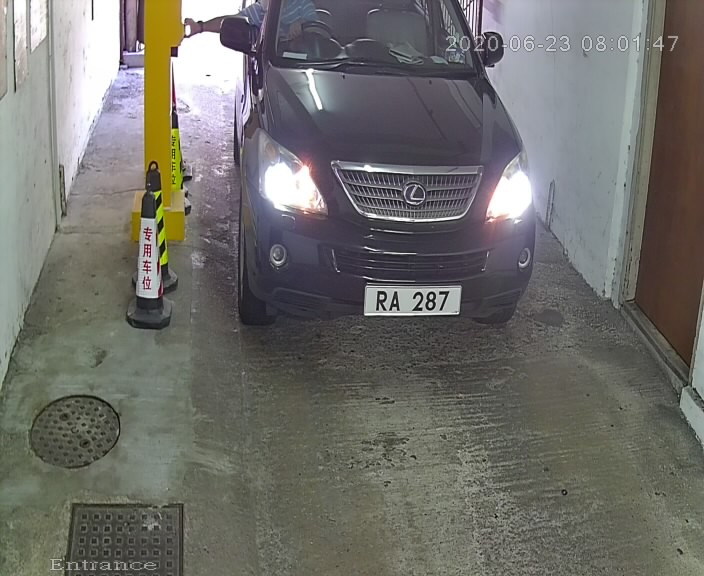privatecar: (194, 2, 569, 353)
